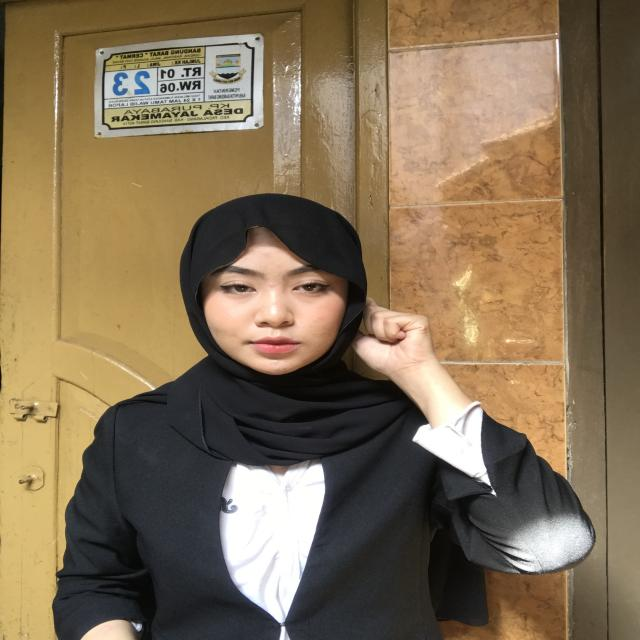ibu: (345, 298, 472, 456)
